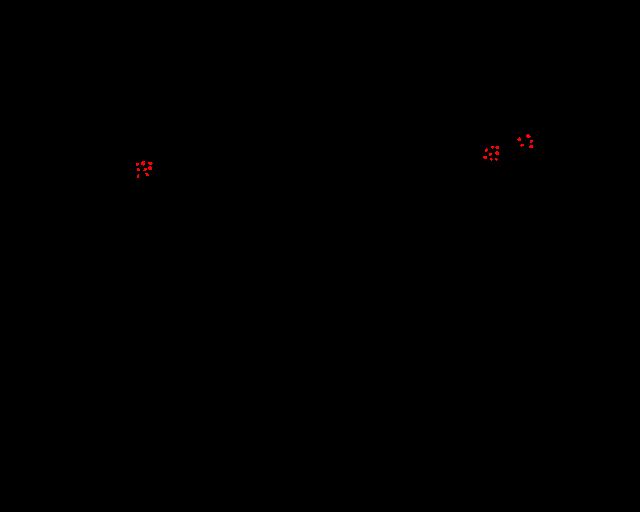Target: (526, 134, 531, 138), (141, 161, 145, 166), (517, 137, 521, 141), (495, 151, 499, 155), (148, 166, 152, 170), (148, 162, 153, 165), (520, 144, 524, 147), (529, 145, 533, 148), (495, 146, 499, 149), (485, 148, 488, 152), (483, 156, 487, 159), (143, 168, 147, 171), (145, 173, 149, 176), (530, 140, 533, 143), (491, 146, 494, 149), (489, 153, 492, 156), (490, 158, 493, 161), (495, 158, 498, 161), (136, 163, 139, 166), (137, 168, 140, 171), (137, 174, 139, 178)
